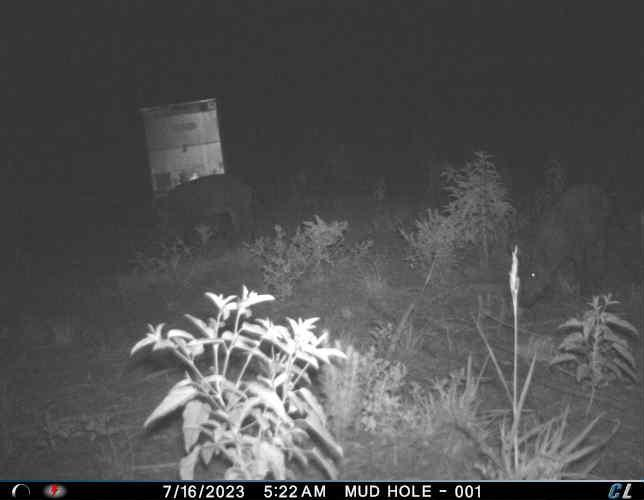Hog: (509, 176, 614, 307), (150, 173, 265, 249)
